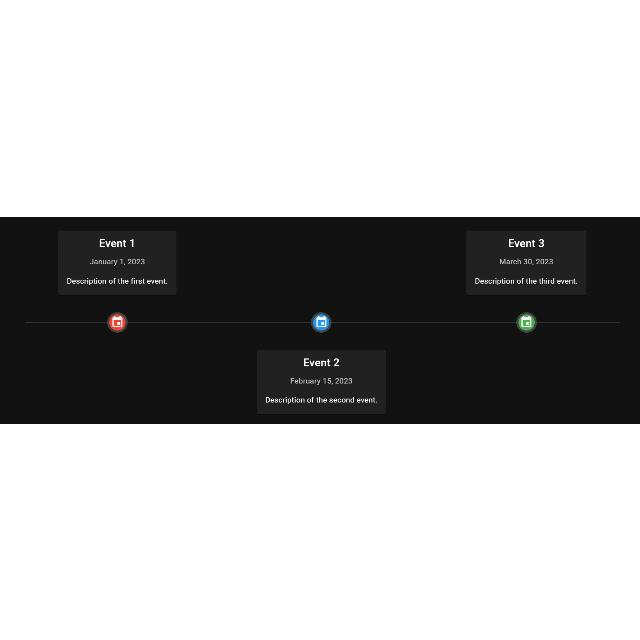VTimeline: (18, 225, 622, 415)
